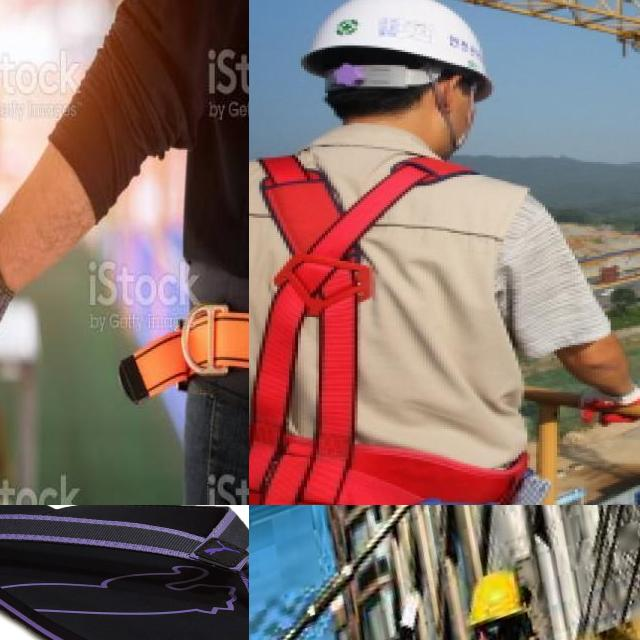Harness: (249, 156, 519, 505)
Sandals: (0, 505, 249, 640)
